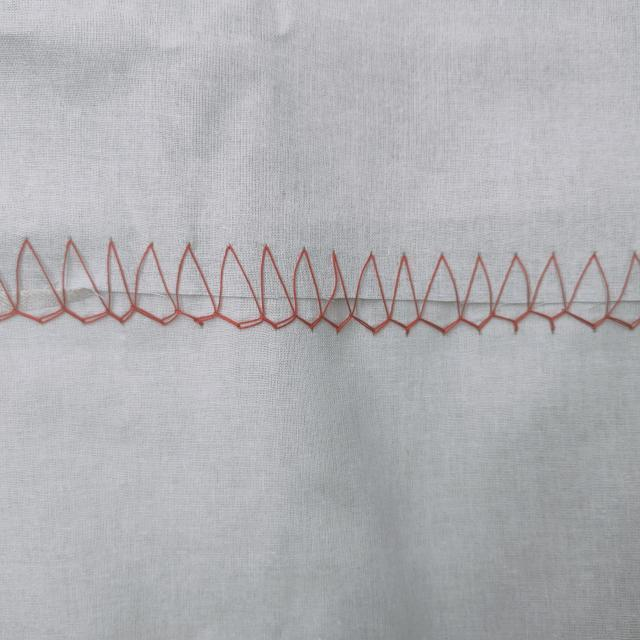Stitch: (3, 202, 640, 380)
